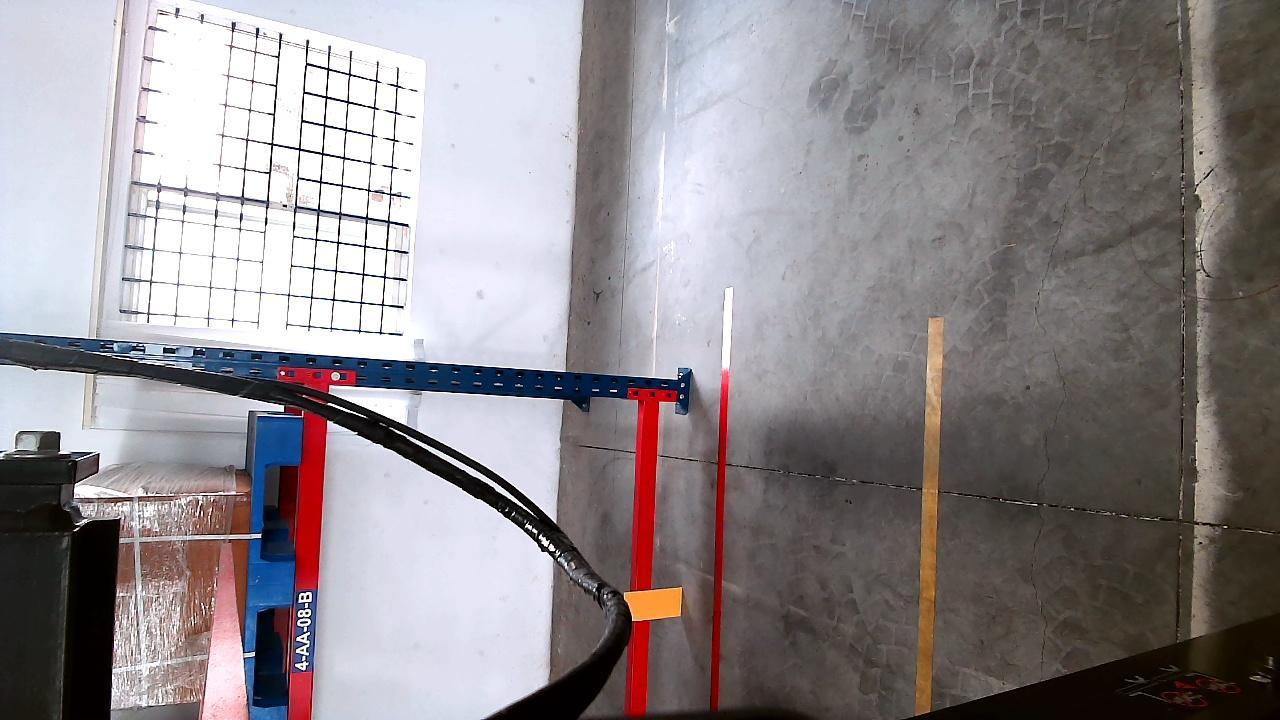red_line: (708, 287, 732, 710)
yellow_line: (916, 313, 944, 714)
